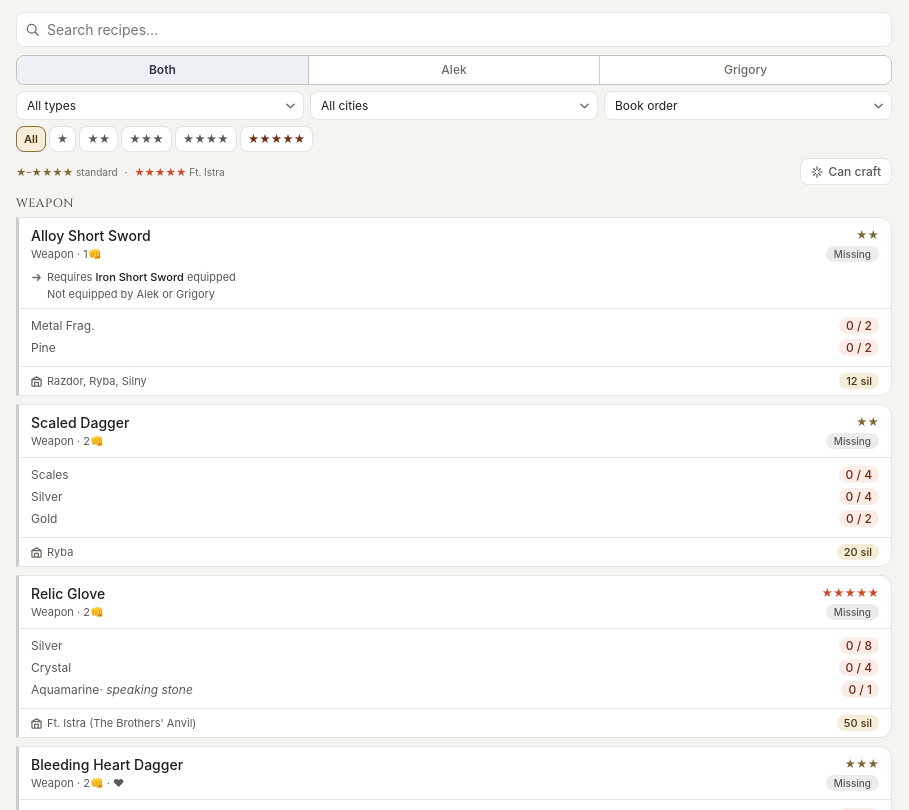
Test: CraftTab — upgrade comparison › mutes a sidegrade
Click the button "Grigory": x=746, y=70 [600,56,891,84]
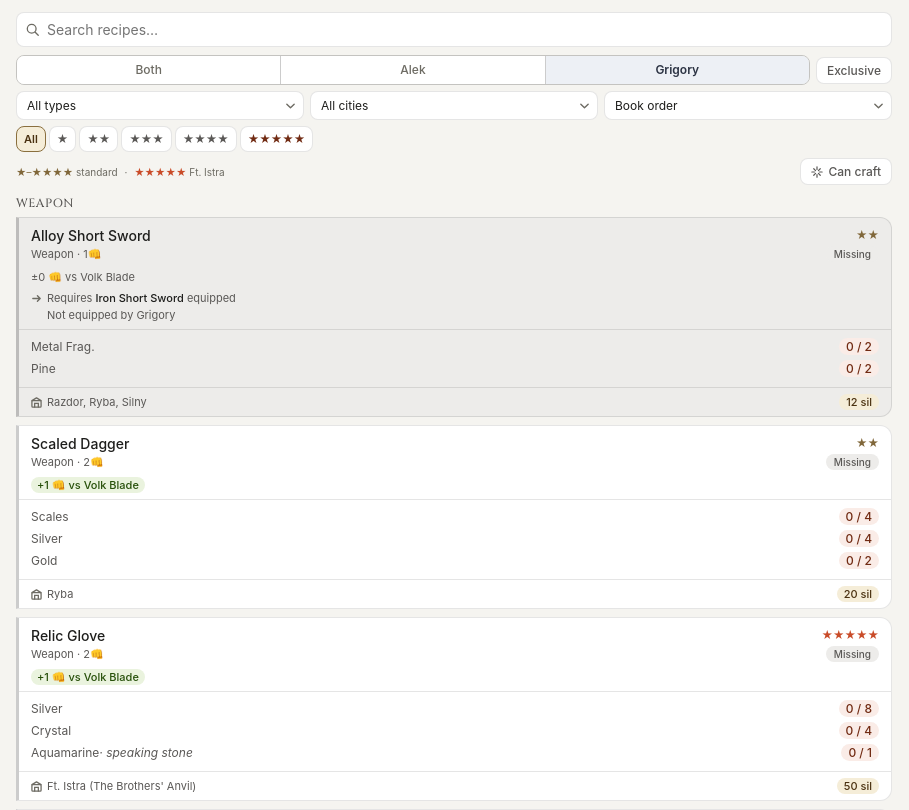
Result: the element with class "craft-upgrade" reads "±0 👊 vs Volk Blade" at [31,270,135,284]
